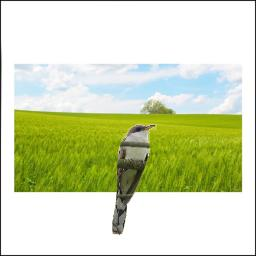Cuckoo: (112, 124, 157, 235)
